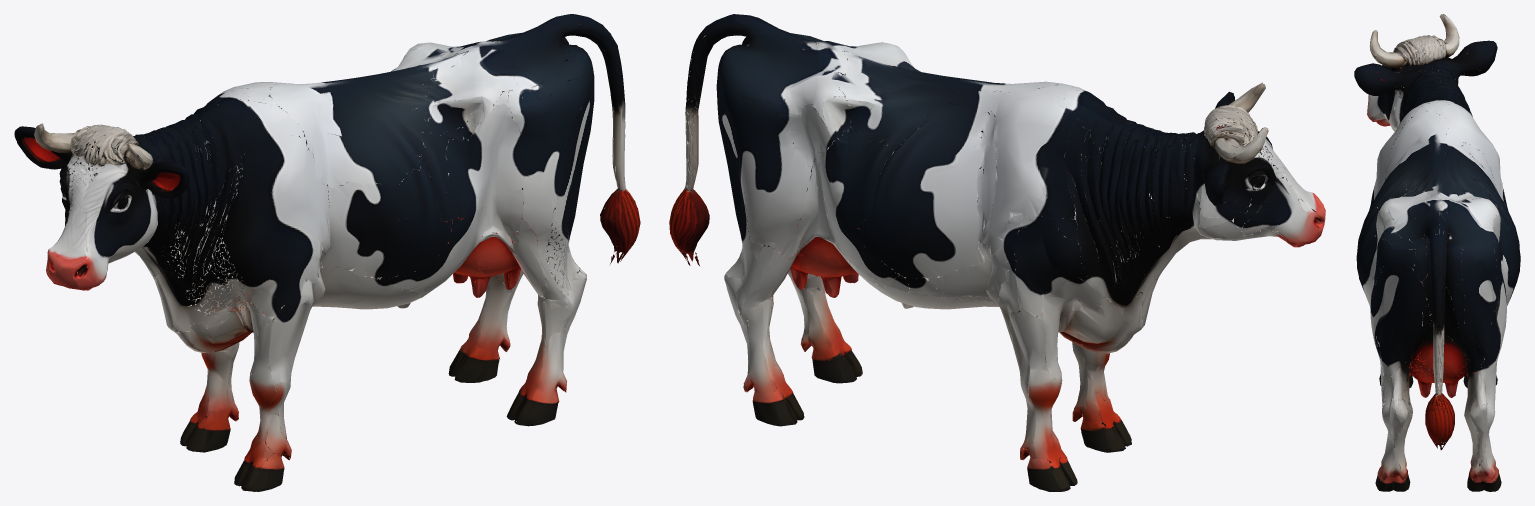
Rendered from cow.glb.
3 renders of one model, left to right at view 1: azimuth 30°, elevation 25°; view 2: azimuth 150°, elevation 25°; view 3: azimuth 270°, elevation 25°, orthographic. The views are drawn at different scales.
Parts seen in each view (by area): view 1: node_0; view 2: node_0; view 3: node_0.
Boxes of the visible parts, bbox=[...] form: node_0: bbox=[14, 14, 640, 491]; node_0: bbox=[669, 14, 1325, 491]; node_0: bbox=[1354, 14, 1520, 491].
Size of the model in its own units: 1.09 by 0.6489 by 0.3265.
Materials: 1 (1 with a texture image).
